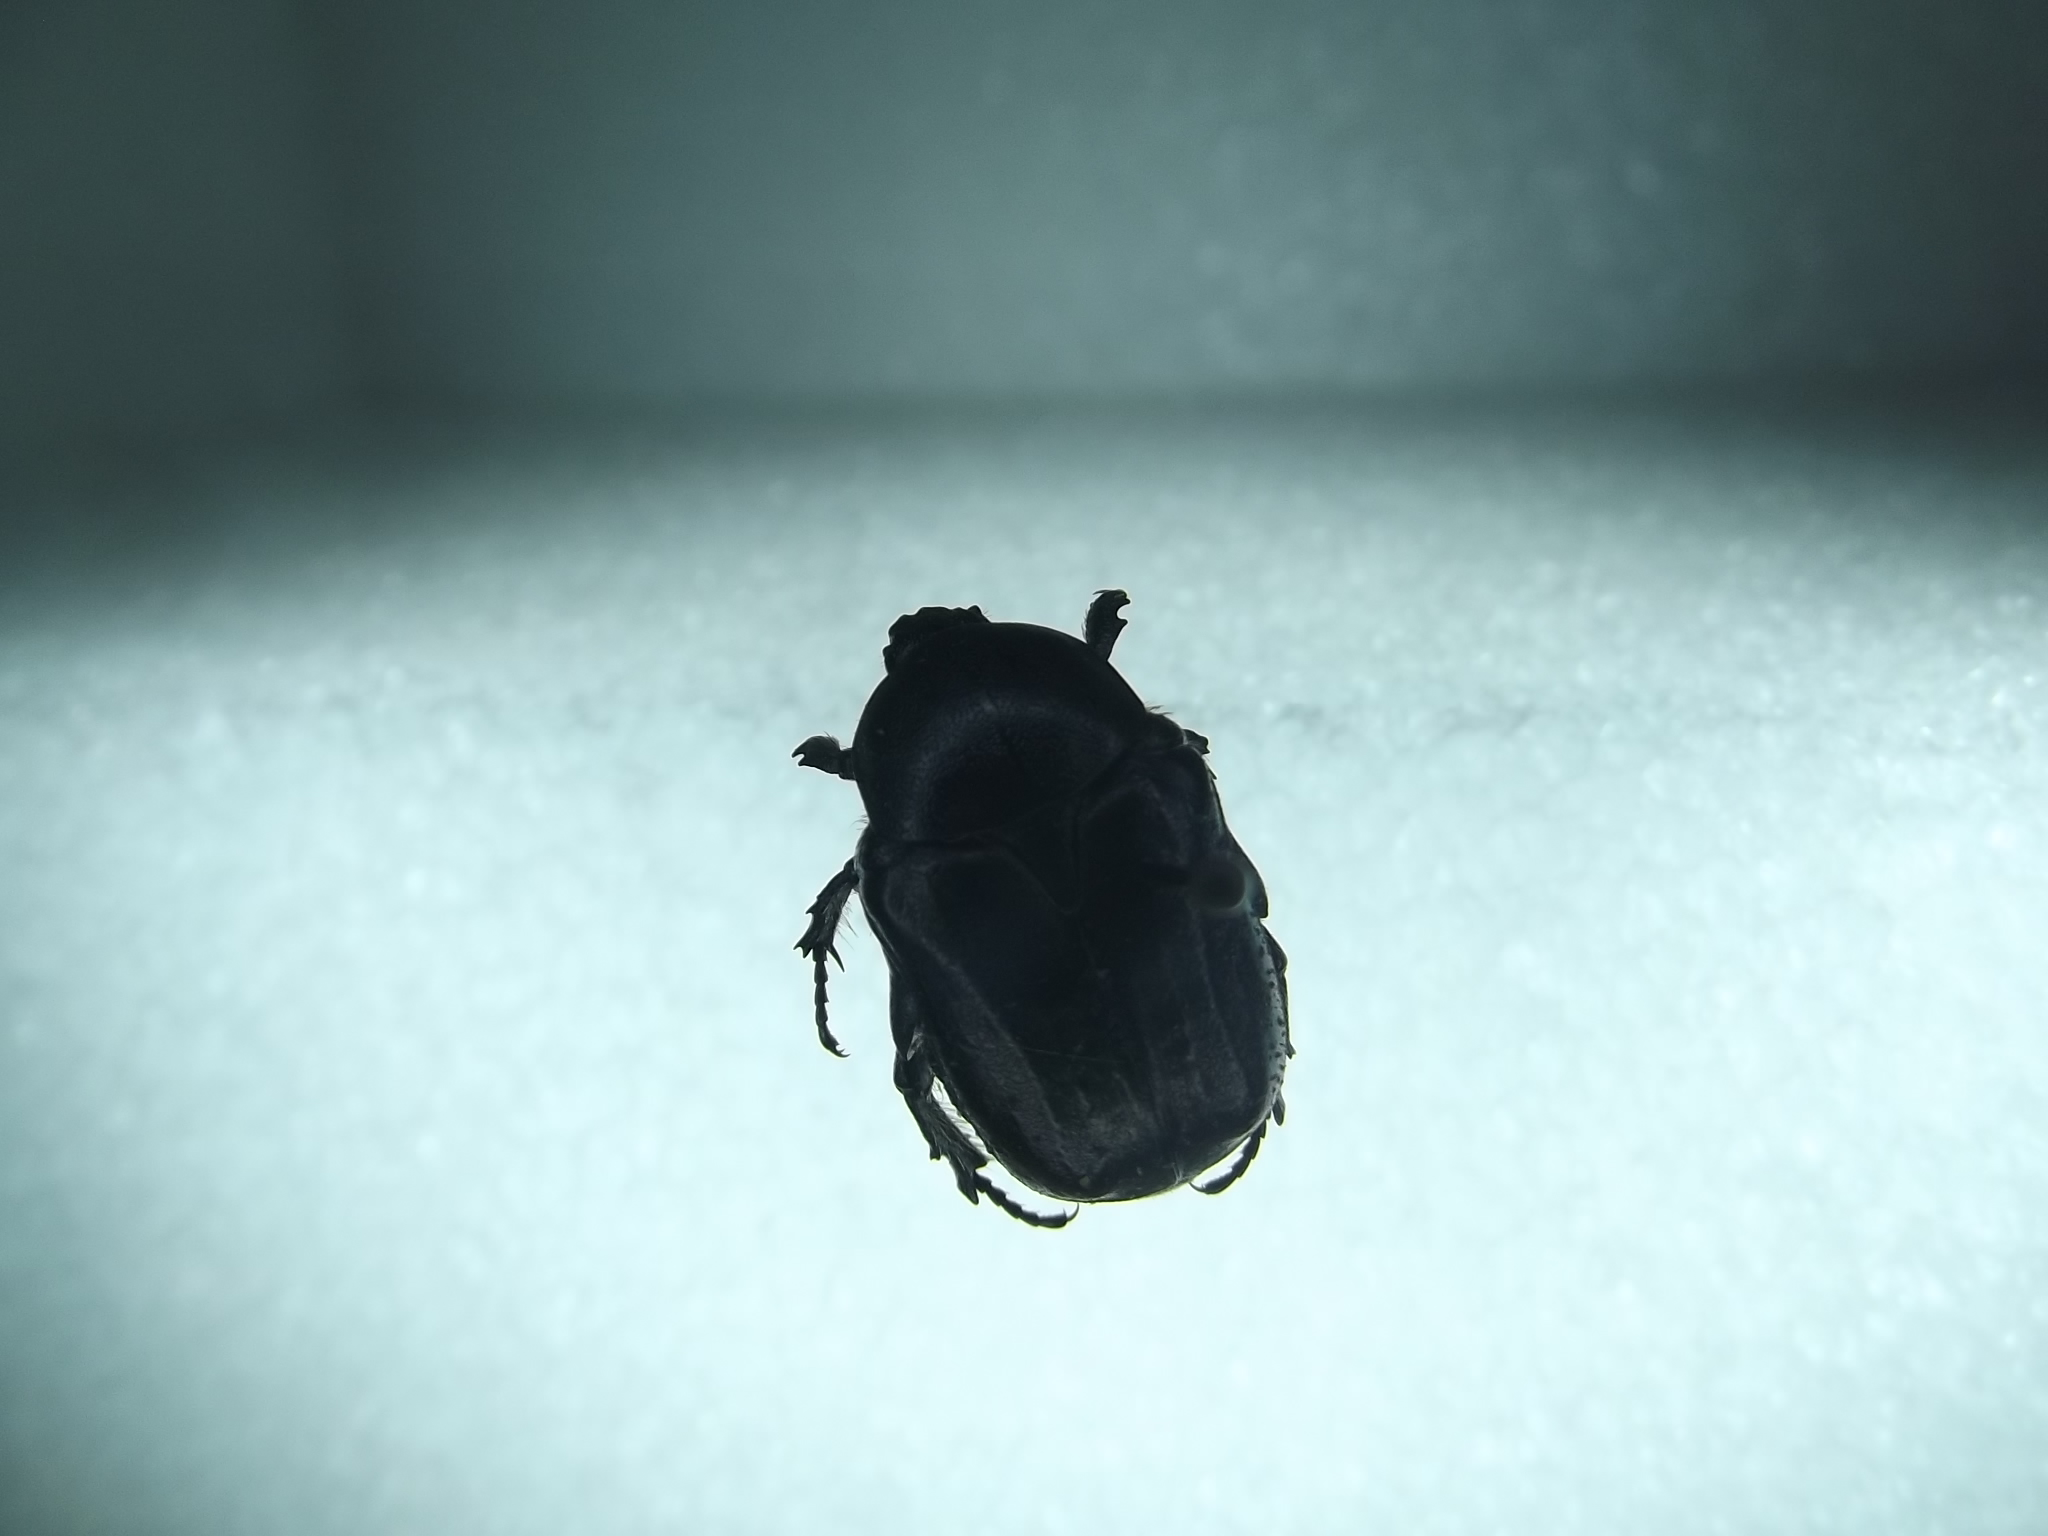Protaetia_vidua: (750, 515, 1350, 1271)
